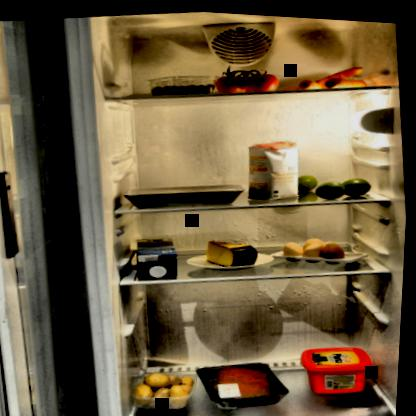beef: (196, 351, 299, 412)
blueberries: (144, 66, 222, 97)
butter: (301, 336, 383, 395)
carrot: (279, 56, 372, 92)
cheese: (201, 230, 263, 269)
eggs: (282, 228, 349, 266)
lime: (283, 161, 378, 203)
milk: (135, 231, 184, 279)
potato: (134, 364, 202, 412)
tomato: (212, 56, 283, 94)
